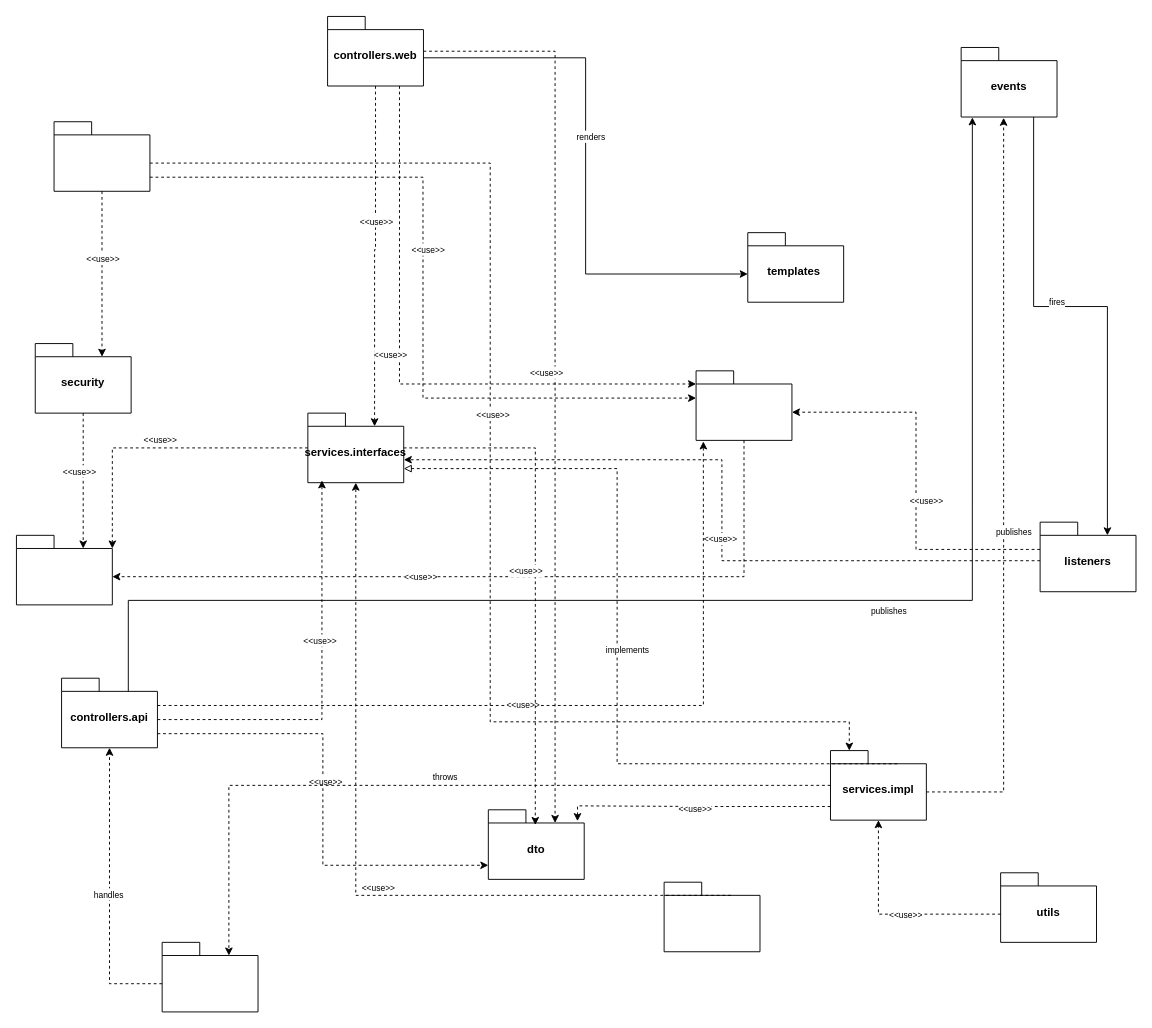
Some shapes in this 1152 by 1028 pixel diagram are drawn without their labels. Each missing label, with the centre of its shape:
"config" belongs at (101,156).
"exceptions" belongs at (209,976).
"models (@Entity)" belongs at (64,569).
"repositories" belongs at (743,405).
"schedulers" belongs at (711,916).
